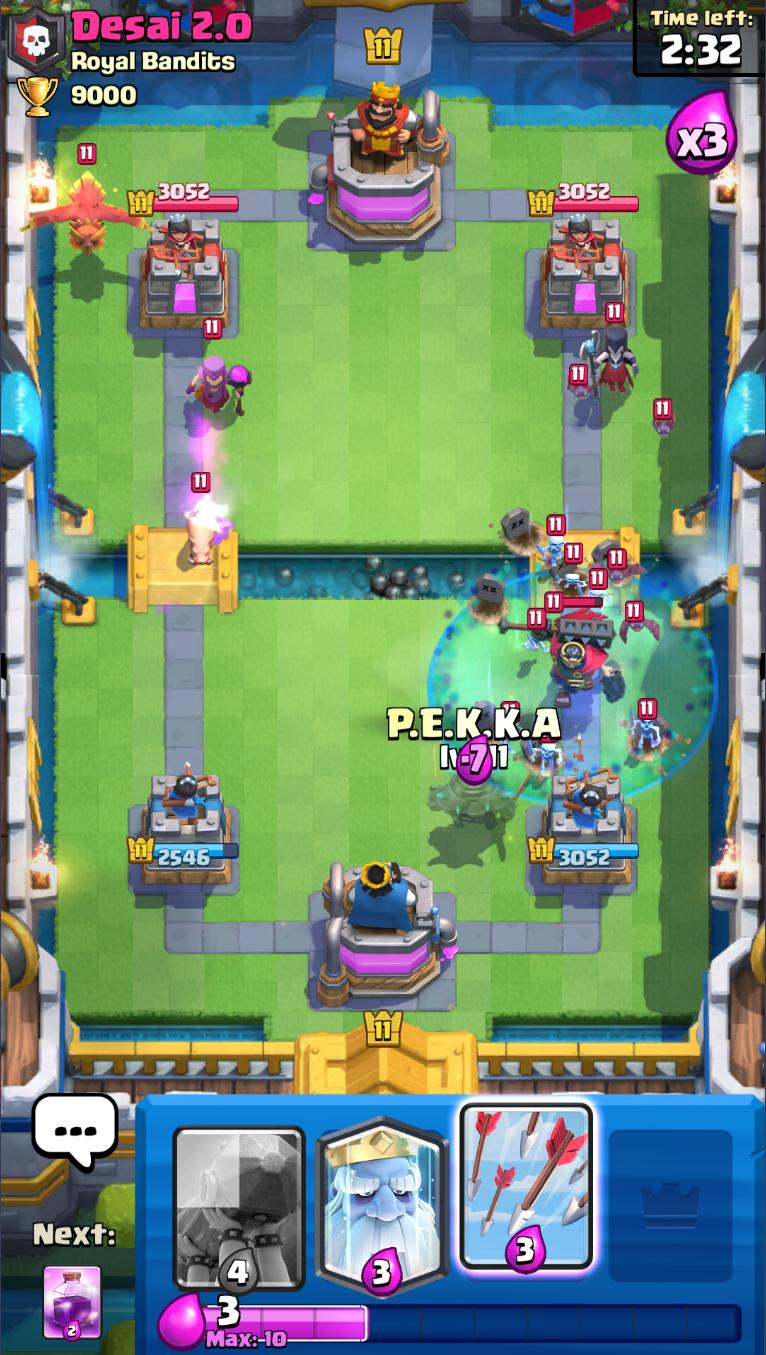ArrowDeck: (455, 1096, 598, 1297)
Bat: (589, 548, 648, 586), (619, 600, 663, 645), (567, 364, 599, 403), (651, 397, 680, 439)
BattleRamDeck: (167, 1095, 311, 1295)
Elixir: (201, 1296, 743, 1350)
Empty: (597, 1097, 743, 1297)
EnemyTower: (138, 215, 232, 331), (539, 215, 632, 331)
KingTower: (310, 79, 451, 248)
MotherWitch: (185, 318, 252, 421)
MyKingTower: (314, 857, 459, 1008)
MyPrincessTower: (126, 773, 242, 889), (528, 770, 641, 889)
MyPrincessTowerHP: (125, 836, 241, 870), (527, 835, 641, 868)
NightWitch: (579, 303, 639, 406)
Phoenix: (27, 143, 151, 256)
Pig: (184, 471, 222, 569)
PrincessTower: (149, 215, 203, 277), (551, 215, 604, 273)
RageNext: (42, 1262, 102, 1342)
RoyaleGhostDeck: (310, 1095, 457, 1296)
Skeleton: (533, 513, 572, 569), (627, 698, 664, 750), (554, 543, 591, 593), (524, 732, 564, 775), (577, 569, 612, 614), (522, 608, 553, 655)
SkeletonKing: (498, 591, 627, 709)
SkeletonKingAbility: (427, 566, 716, 802)
TowerPrincessHP: (127, 182, 240, 217), (528, 182, 641, 216)
